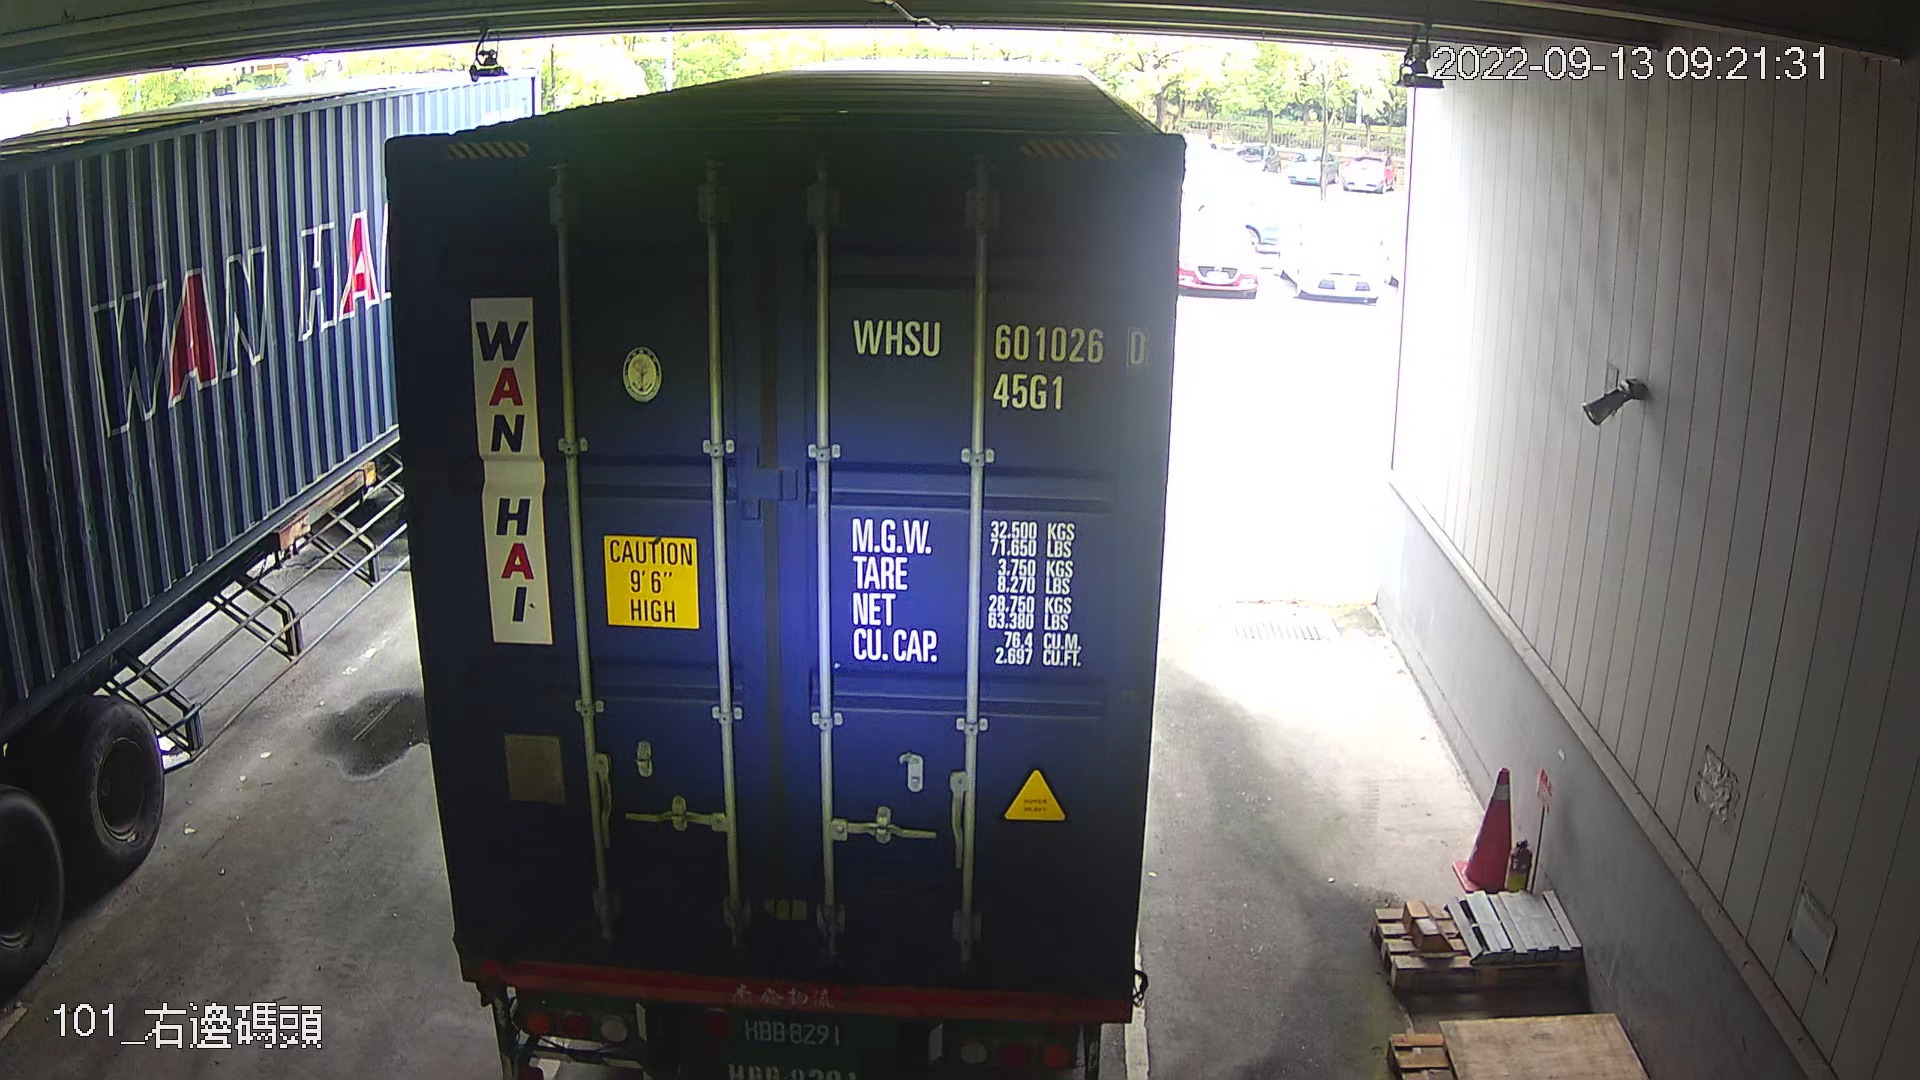container: (837, 305, 1156, 426)
